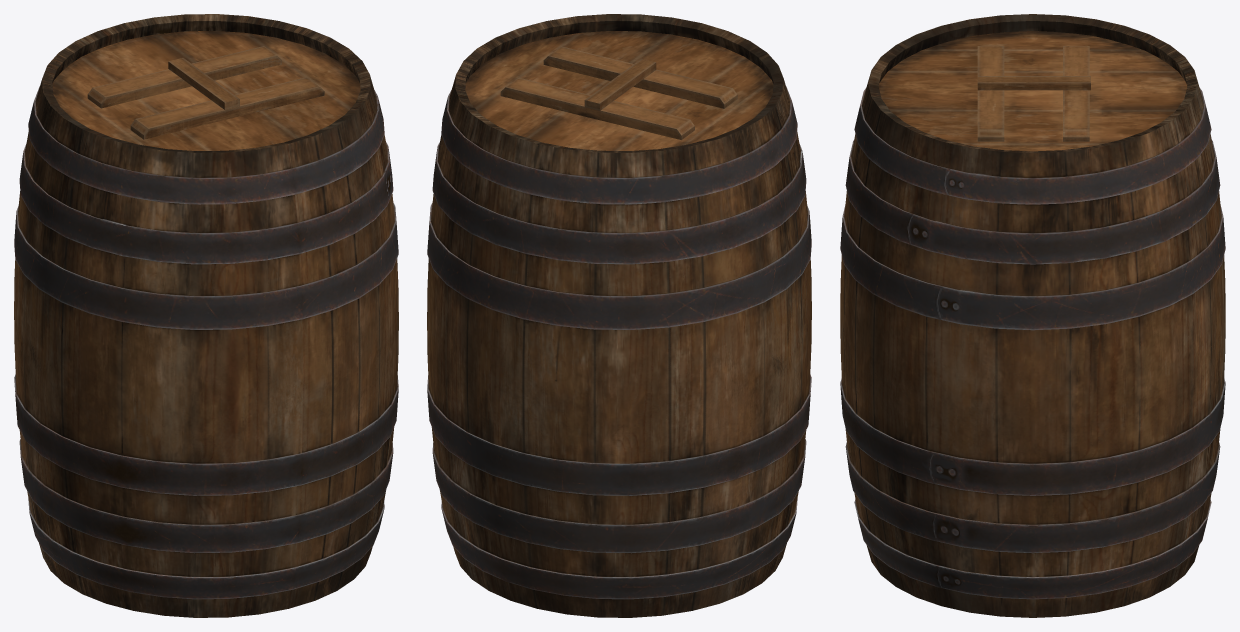
3 renders of one model, left to right at view 1: azimuth 30°, elevation 25°; view 2: azimuth 150°, elevation 25°; view 3: azimuth 270°, elevation 25°, orthographic.
Visible parts, largest first — view 1: lp005, Object; view 2: lp005, Object; view 3: lp005, Object.
Part boxes in pixels (x1,y1,x2,y2): lp005: [14, 14, 398, 617]; Object: [87, 46, 324, 139]; lp005: [427, 14, 811, 617]; Object: [500, 46, 737, 139]; lp005: [840, 14, 1225, 617]; Object: [977, 46, 1090, 141].
Size of the model in its own units: 0.3548 by 0.3548 by 0.4751.
1 material, 1 textured.
